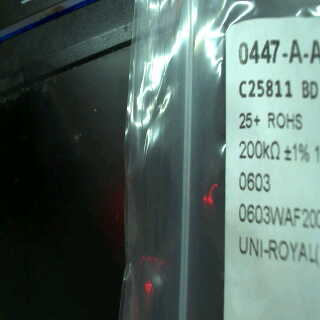200kR: (237, 135, 281, 166)
